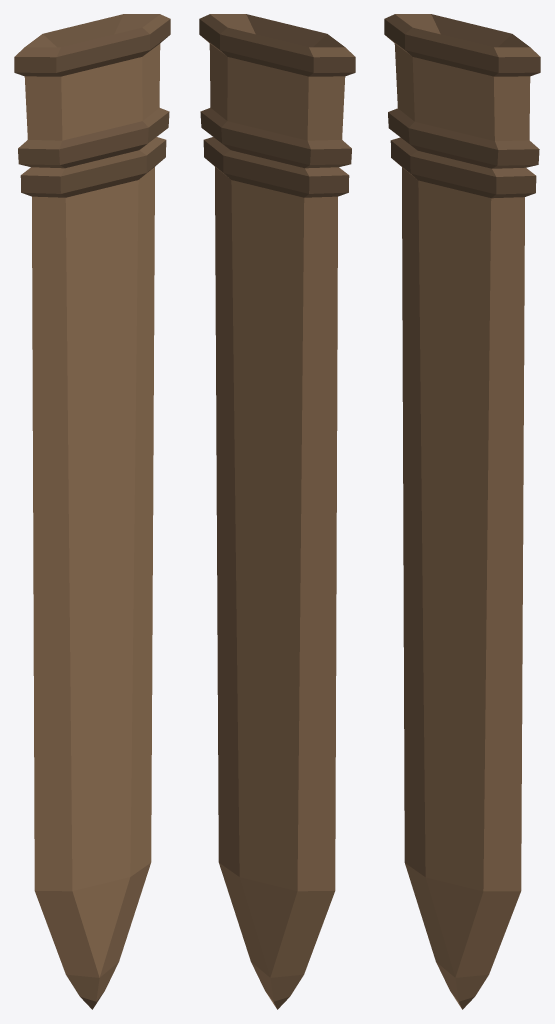
Rendered from SM_pwe_slavic_sword_scabbard_04.fbx.
3 views of the same model, side by side, from view 1: azimuth 30°, elevation 25°; view 2: azimuth 150°, elevation 25°; view 3: azimuth 330°, elevation 25° (orthographic).
Visible parts, largest first — view 1: SM_pwe_slavic_sword_scabbard_04; view 2: SM_pwe_slavic_sword_scabbard_04; view 3: SM_pwe_slavic_sword_scabbard_04.
Part boxes in pixels (x1,y1,x2,y2): SM_pwe_slavic_sword_scabbard_04: [14, 14, 170, 1009]; SM_pwe_slavic_sword_scabbard_04: [199, 14, 355, 1009]; SM_pwe_slavic_sword_scabbard_04: [384, 14, 540, 1009].
Size of the model in its own units: 10.87 by 65.02 by 2.58.
